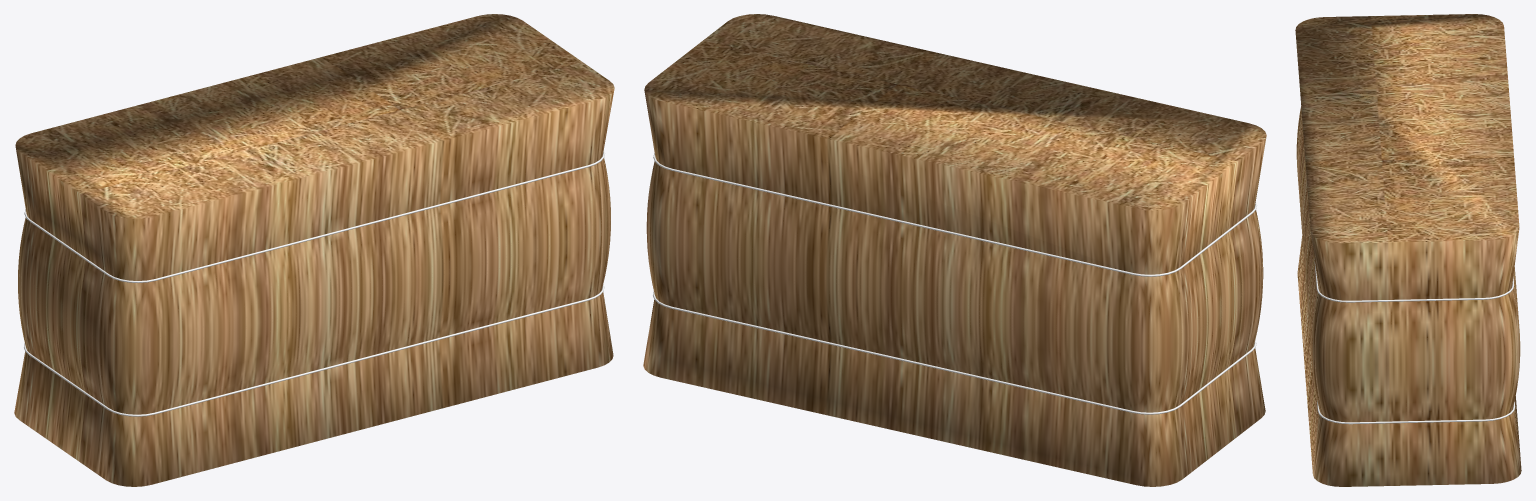
Rendered from hey_mesh.fbx.
The picture shows the model from 3 angles, left to right: view 1: azimuth 30°, elevation 25°; view 2: azimuth 150°, elevation 25°; view 3: azimuth 270°, elevation 25°; orthographic projection. The views are drawn at different scales.
Visible parts, largest first — view 1: Group1; view 2: Group1; view 3: Group1.
Boxes of the visible parts, bbox=[...] form: Group1: bbox=[14, 14, 614, 486]; Group1: bbox=[643, 14, 1266, 486]; Group1: bbox=[1295, 14, 1521, 486].
Size of the model in its own units: 36.31 by 18.11 by 15.17.
